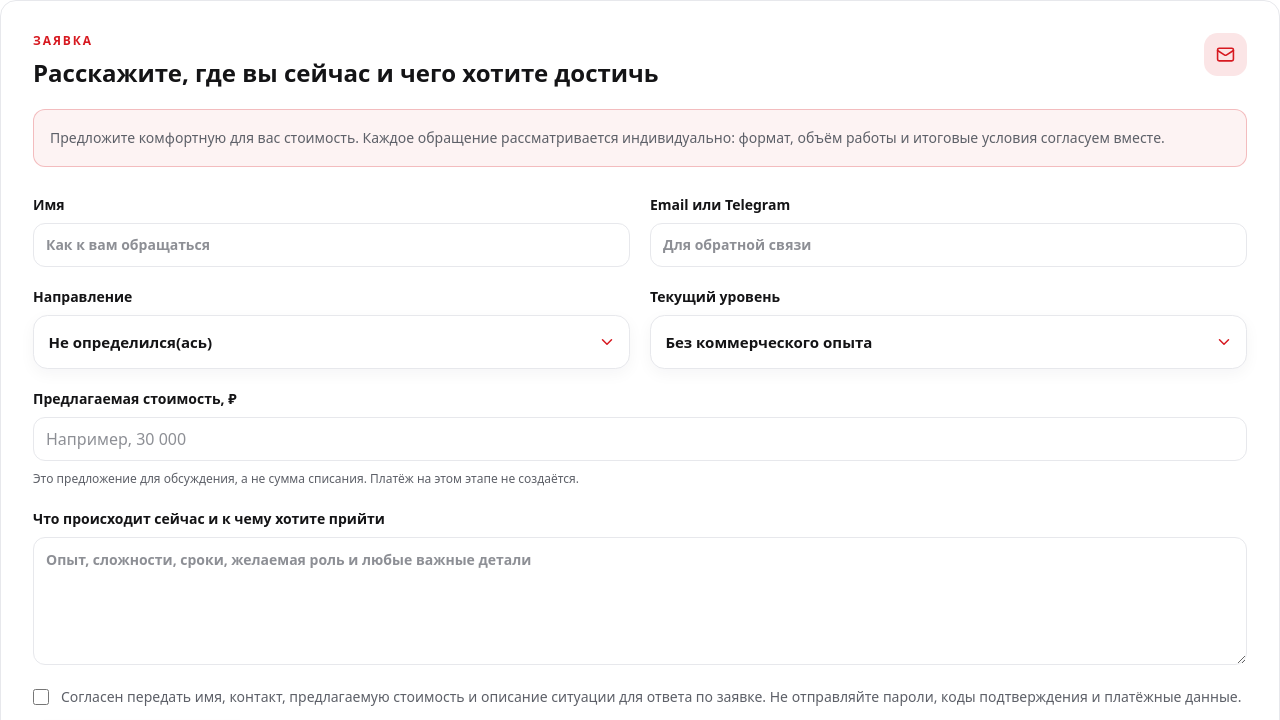
Scenario: analytics components › submits mentorship through its own on-site endpoint
The width and height of the screenshot is (1280, 720).
In the field labelled "Имя": (332, 245) [33,223,630,267], type "Иван"
In the field labelled "Email или Telegram": (948, 245) [650,223,1247,267], type "ivan@example.com"
Select "Backend" in the dropdown labelled "Направление": (332, 342) [33,315,630,369]
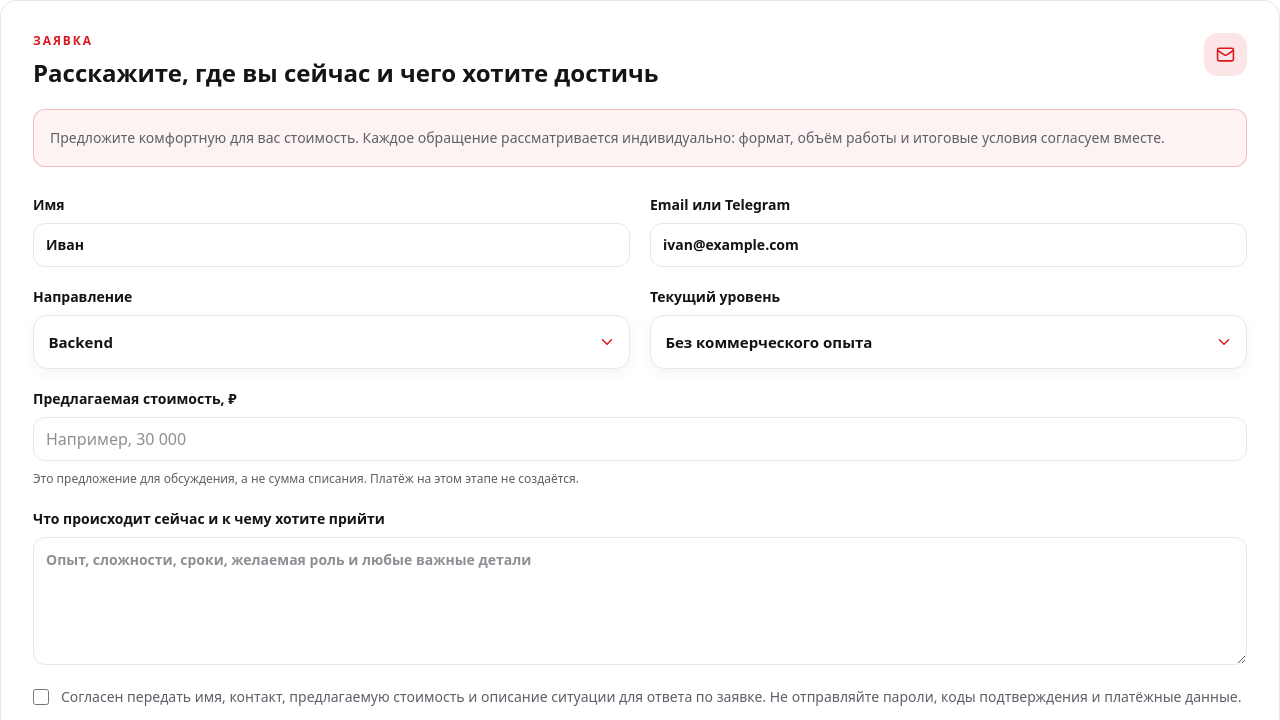
Select "Junior" in the dropdown labelled "Текущий уровень": (948, 342) [650,315,1247,369]
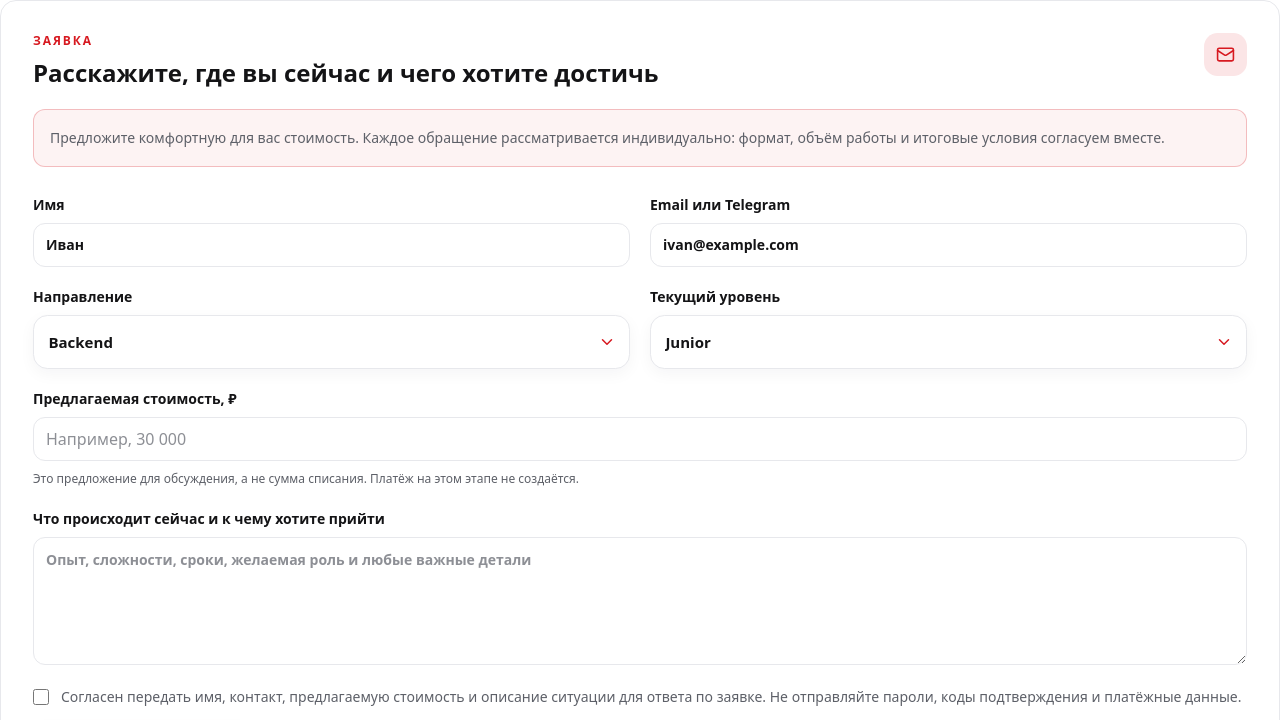
In the number field labelled "Предлагаемая стоимость, ₽": (640, 439) [33,417,1247,461], type "30000"
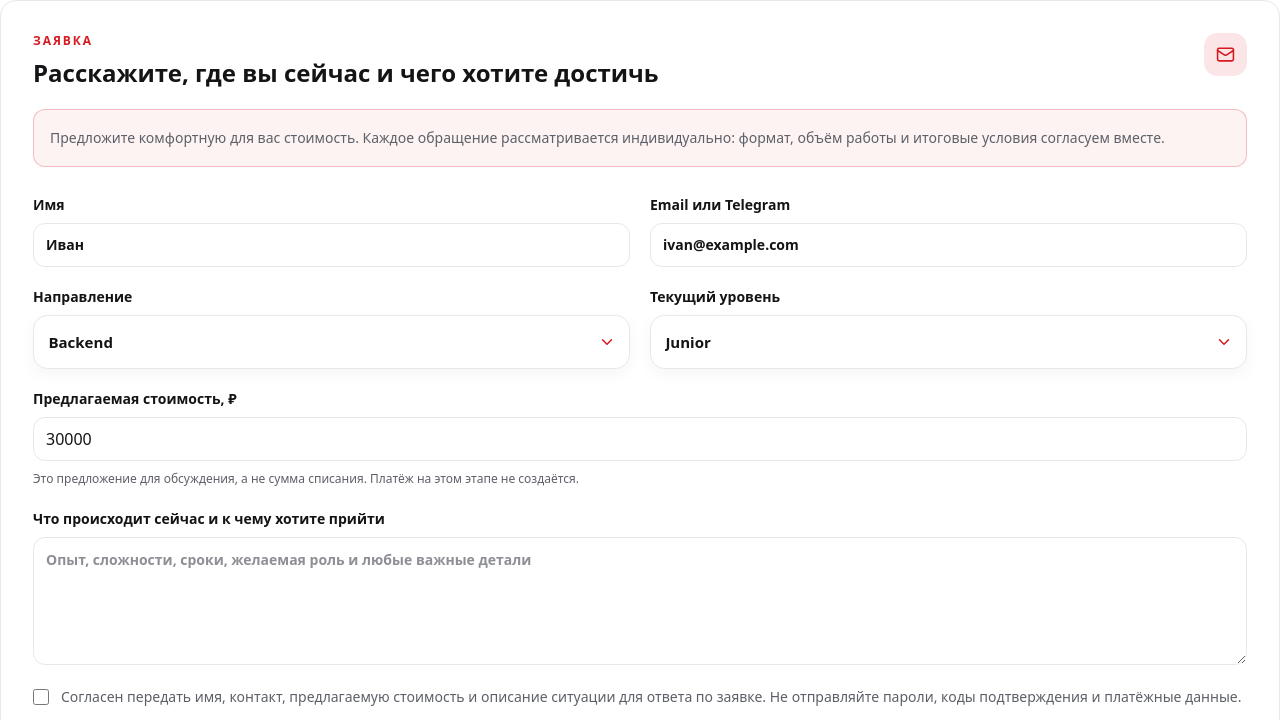
In the text box labelled "Что происходит сейчас и к чему хотите прийти": (640, 601) [33,537,1247,665], type "Хочу подготовиться к поиску первой работы Backend-разработчиком."
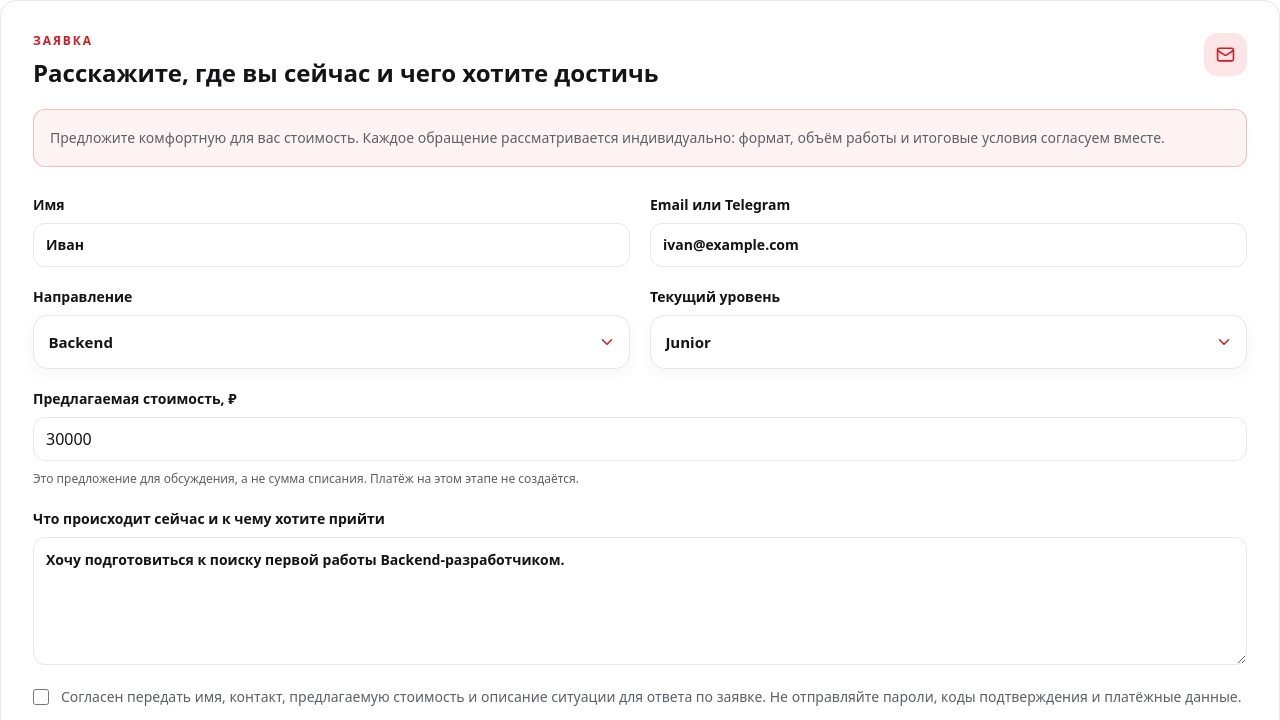
Click the checkbox: (41, 697) [33,689,49,705]
(page scrolled)
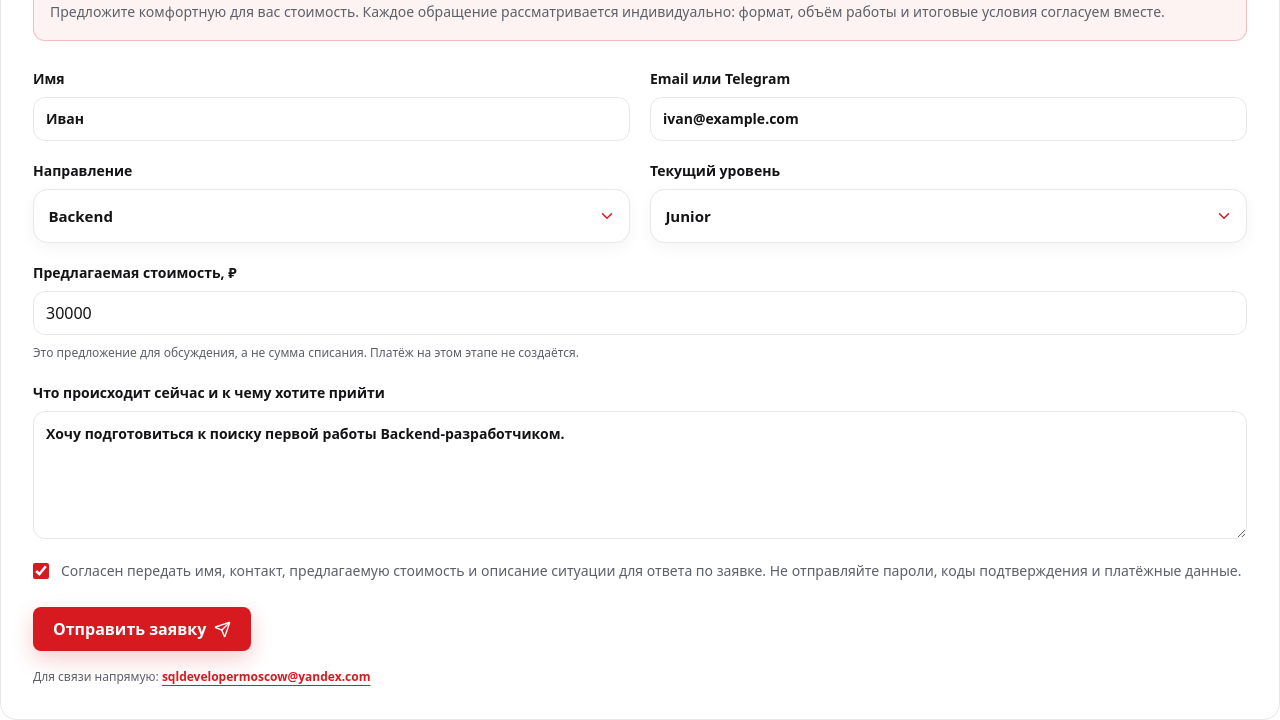
Click the button "Отправить заявку": (142, 629) [33,607,251,651]
(page scrolled)
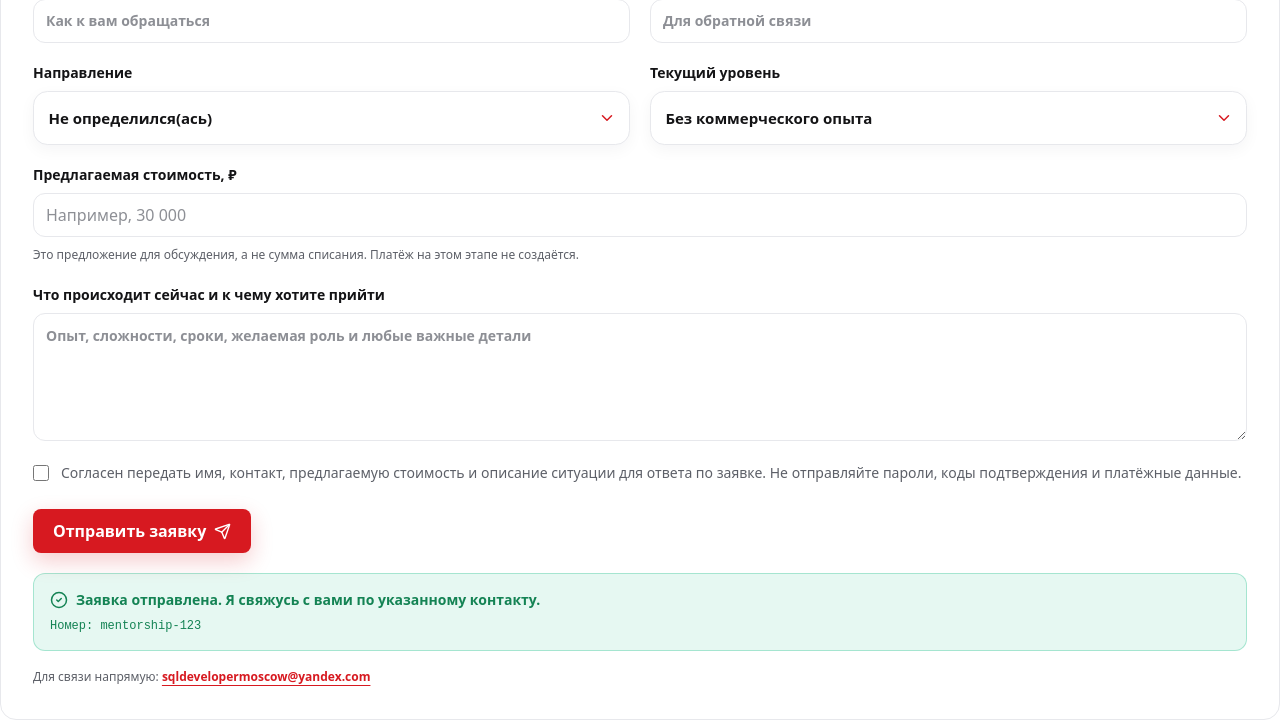
Now the message shows "Заявка отправлена", box [76,590,540,609]
Now the text "Номер: mentorship-123" is shown, box [50,619,201,633]
